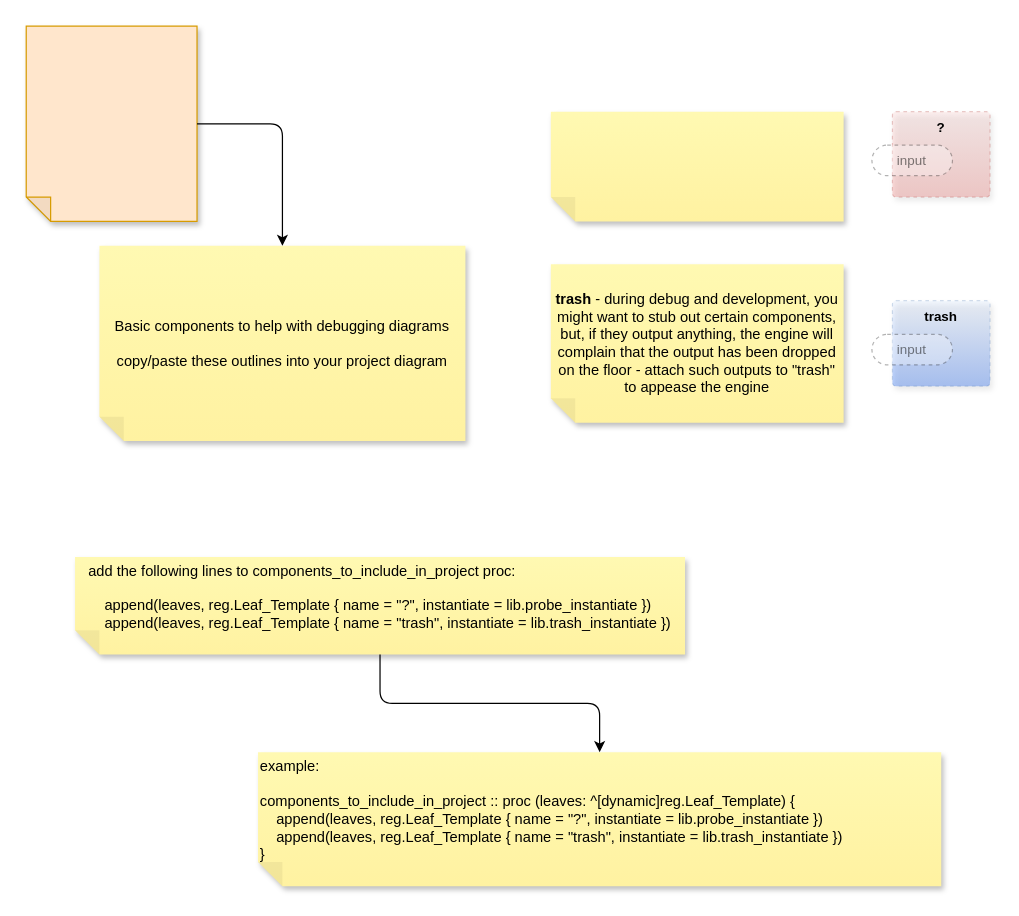
This 1019x916 diagram has some shape labels left out. Here are the shapes that lost their labels. From the top down, the centre of each, then its label:
At (112,125): "libdev0d".
At (697,167): "probe - displays input as a string on stderr".
